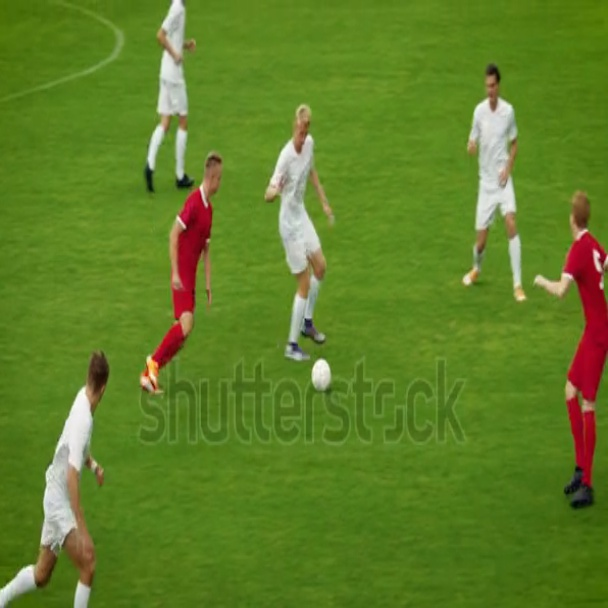ball: (307, 354, 337, 400)
